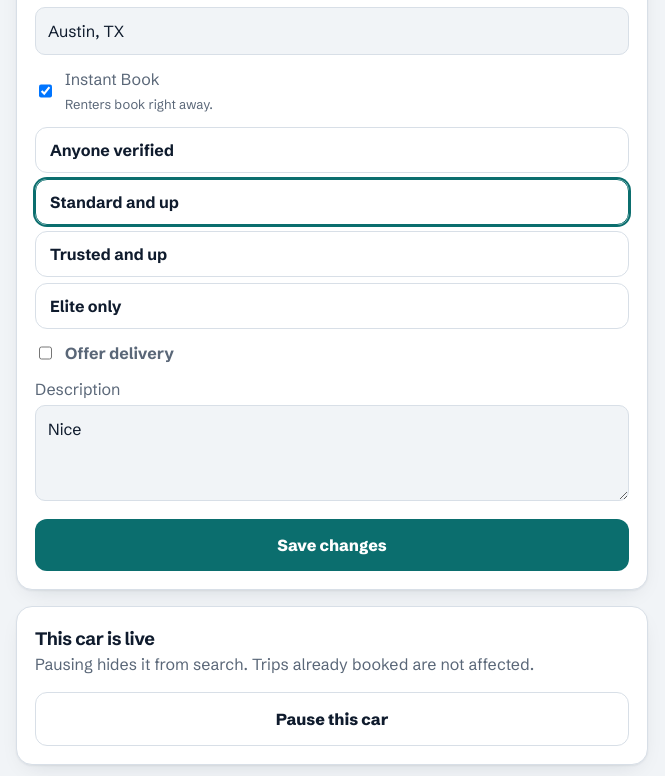
Test: EditListingPage › a failed save says nothing changed
(page scrolled)
Click the button "Save changes" at (332, 545), box [35, 519, 629, 571]
(page scrolled)
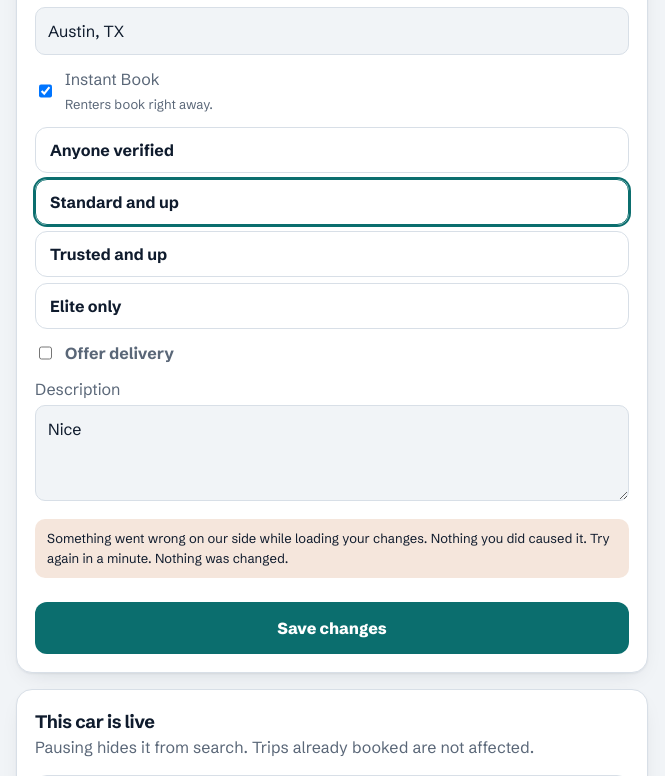
Result: the message shows "Nothing was changed" at [152, 550, 288, 566]
